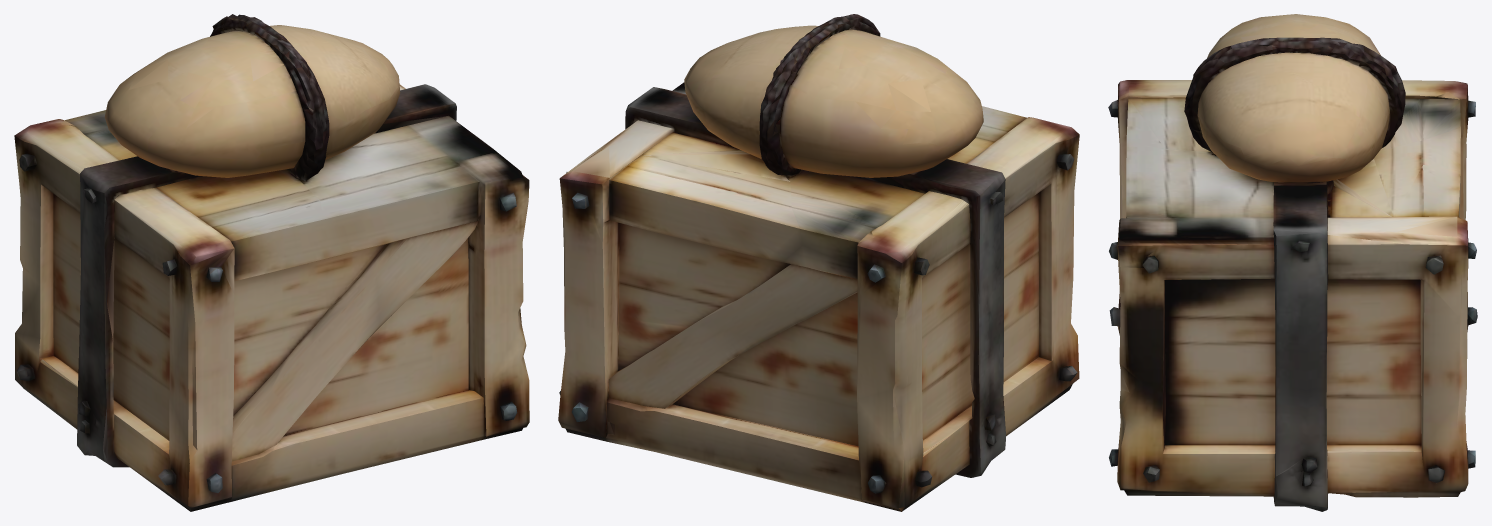
Rendered from prop-pickup-supply.glb.
3 renders of one model, left to right at view 1: azimuth 30°, elevation 25°; view 2: azimuth 150°, elevation 25°; view 3: azimuth 270°, elevation 25°, orthographic.
Visible parts, largest first — view 1: prop-pickup-supply; view 2: prop-pickup-supply; view 3: prop-pickup-supply.
Boxes of the visible parts, x1=… form: prop-pickup-supply: x1=14, y1=14, x2=529, y2=511; prop-pickup-supply: x1=558, y1=14, x2=1079, y2=511; prop-pickup-supply: x1=1108, y1=14, x2=1477, y2=511.
Size of the model in its own units: 0.5141 by 0.5264 by 0.452.
Materials: 1 (1 with a texture image).
